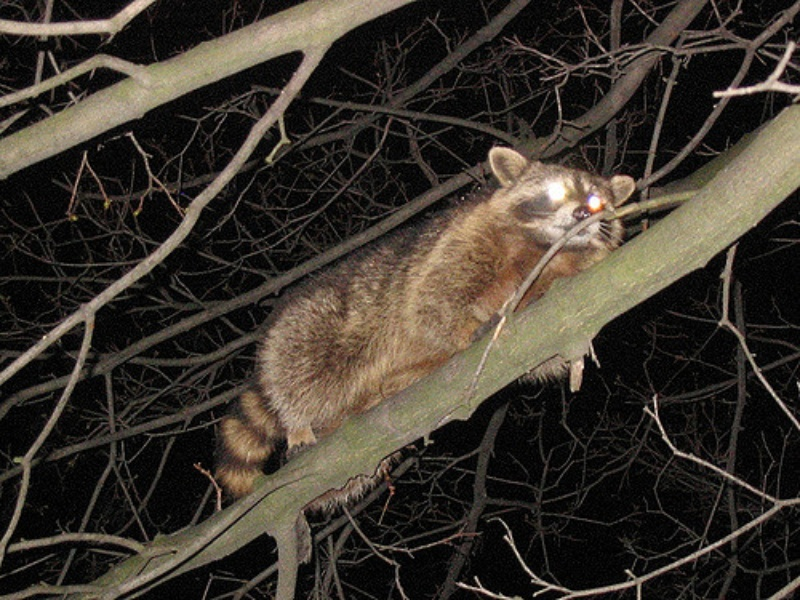raccoon: (217, 144, 636, 513)
